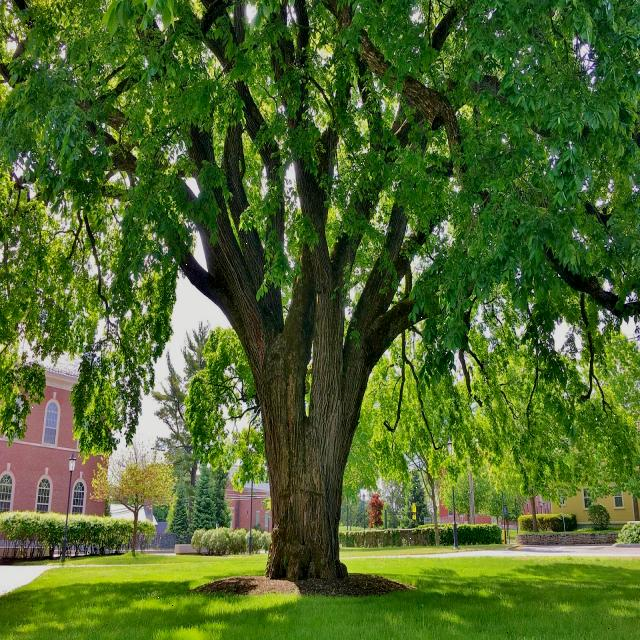Tree: (4, 7, 640, 579)
